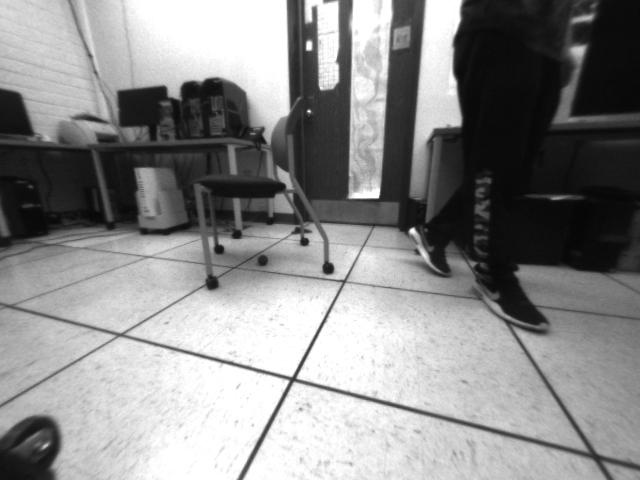dogtoy: (255, 252, 275, 268)
